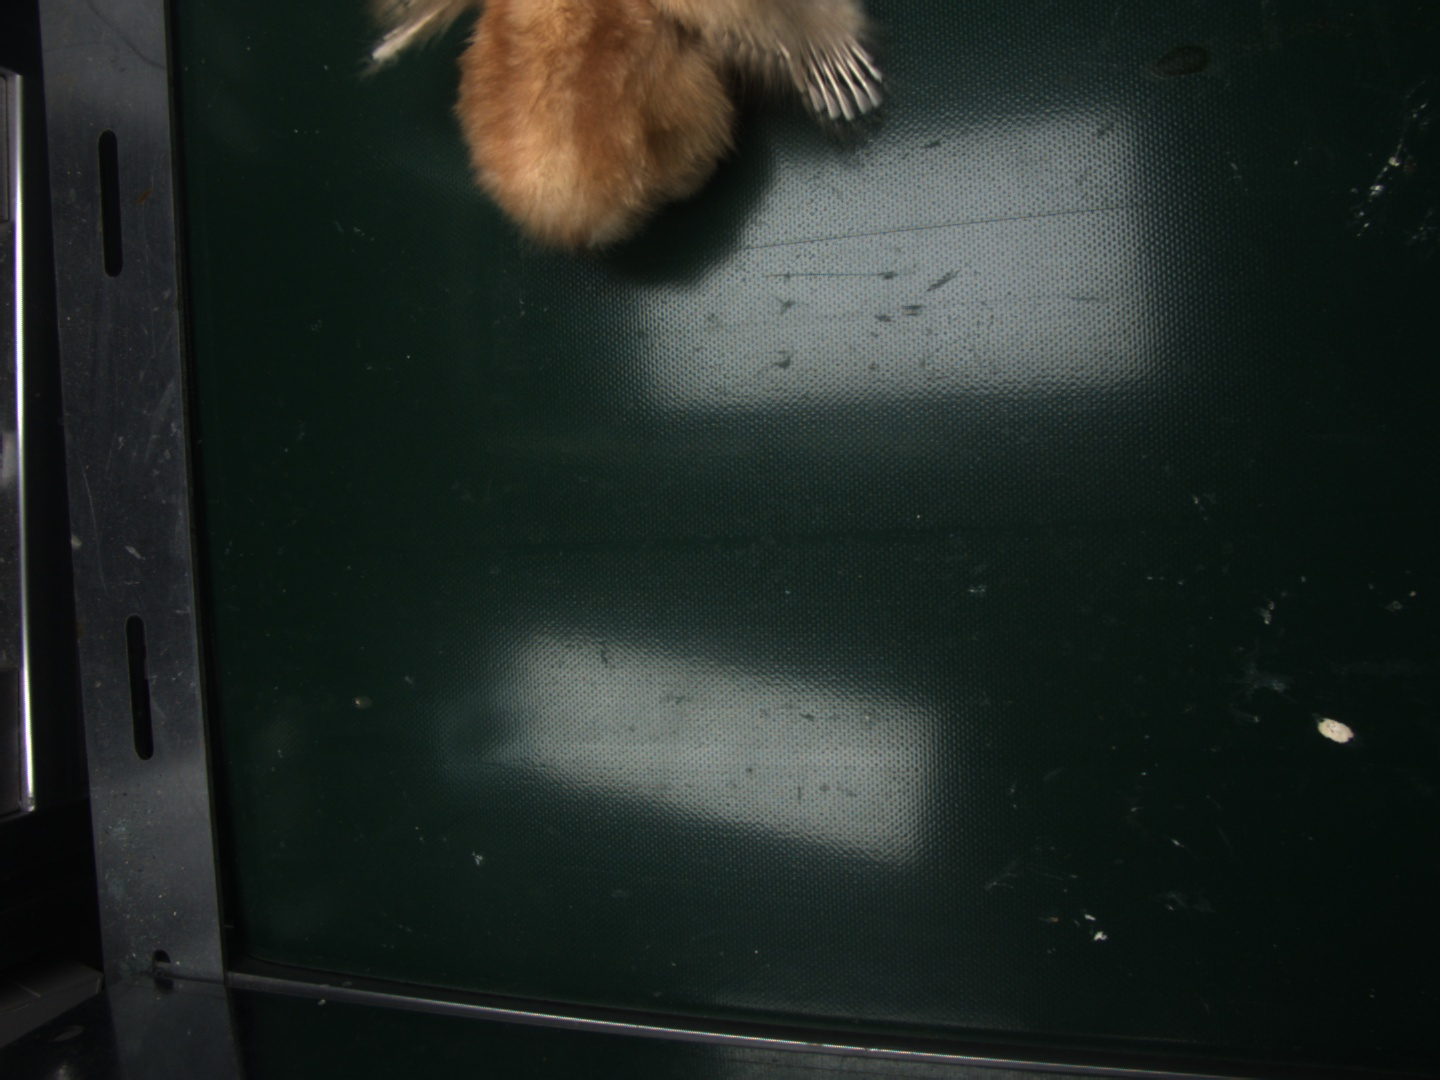female: (791, 36, 883, 120)
